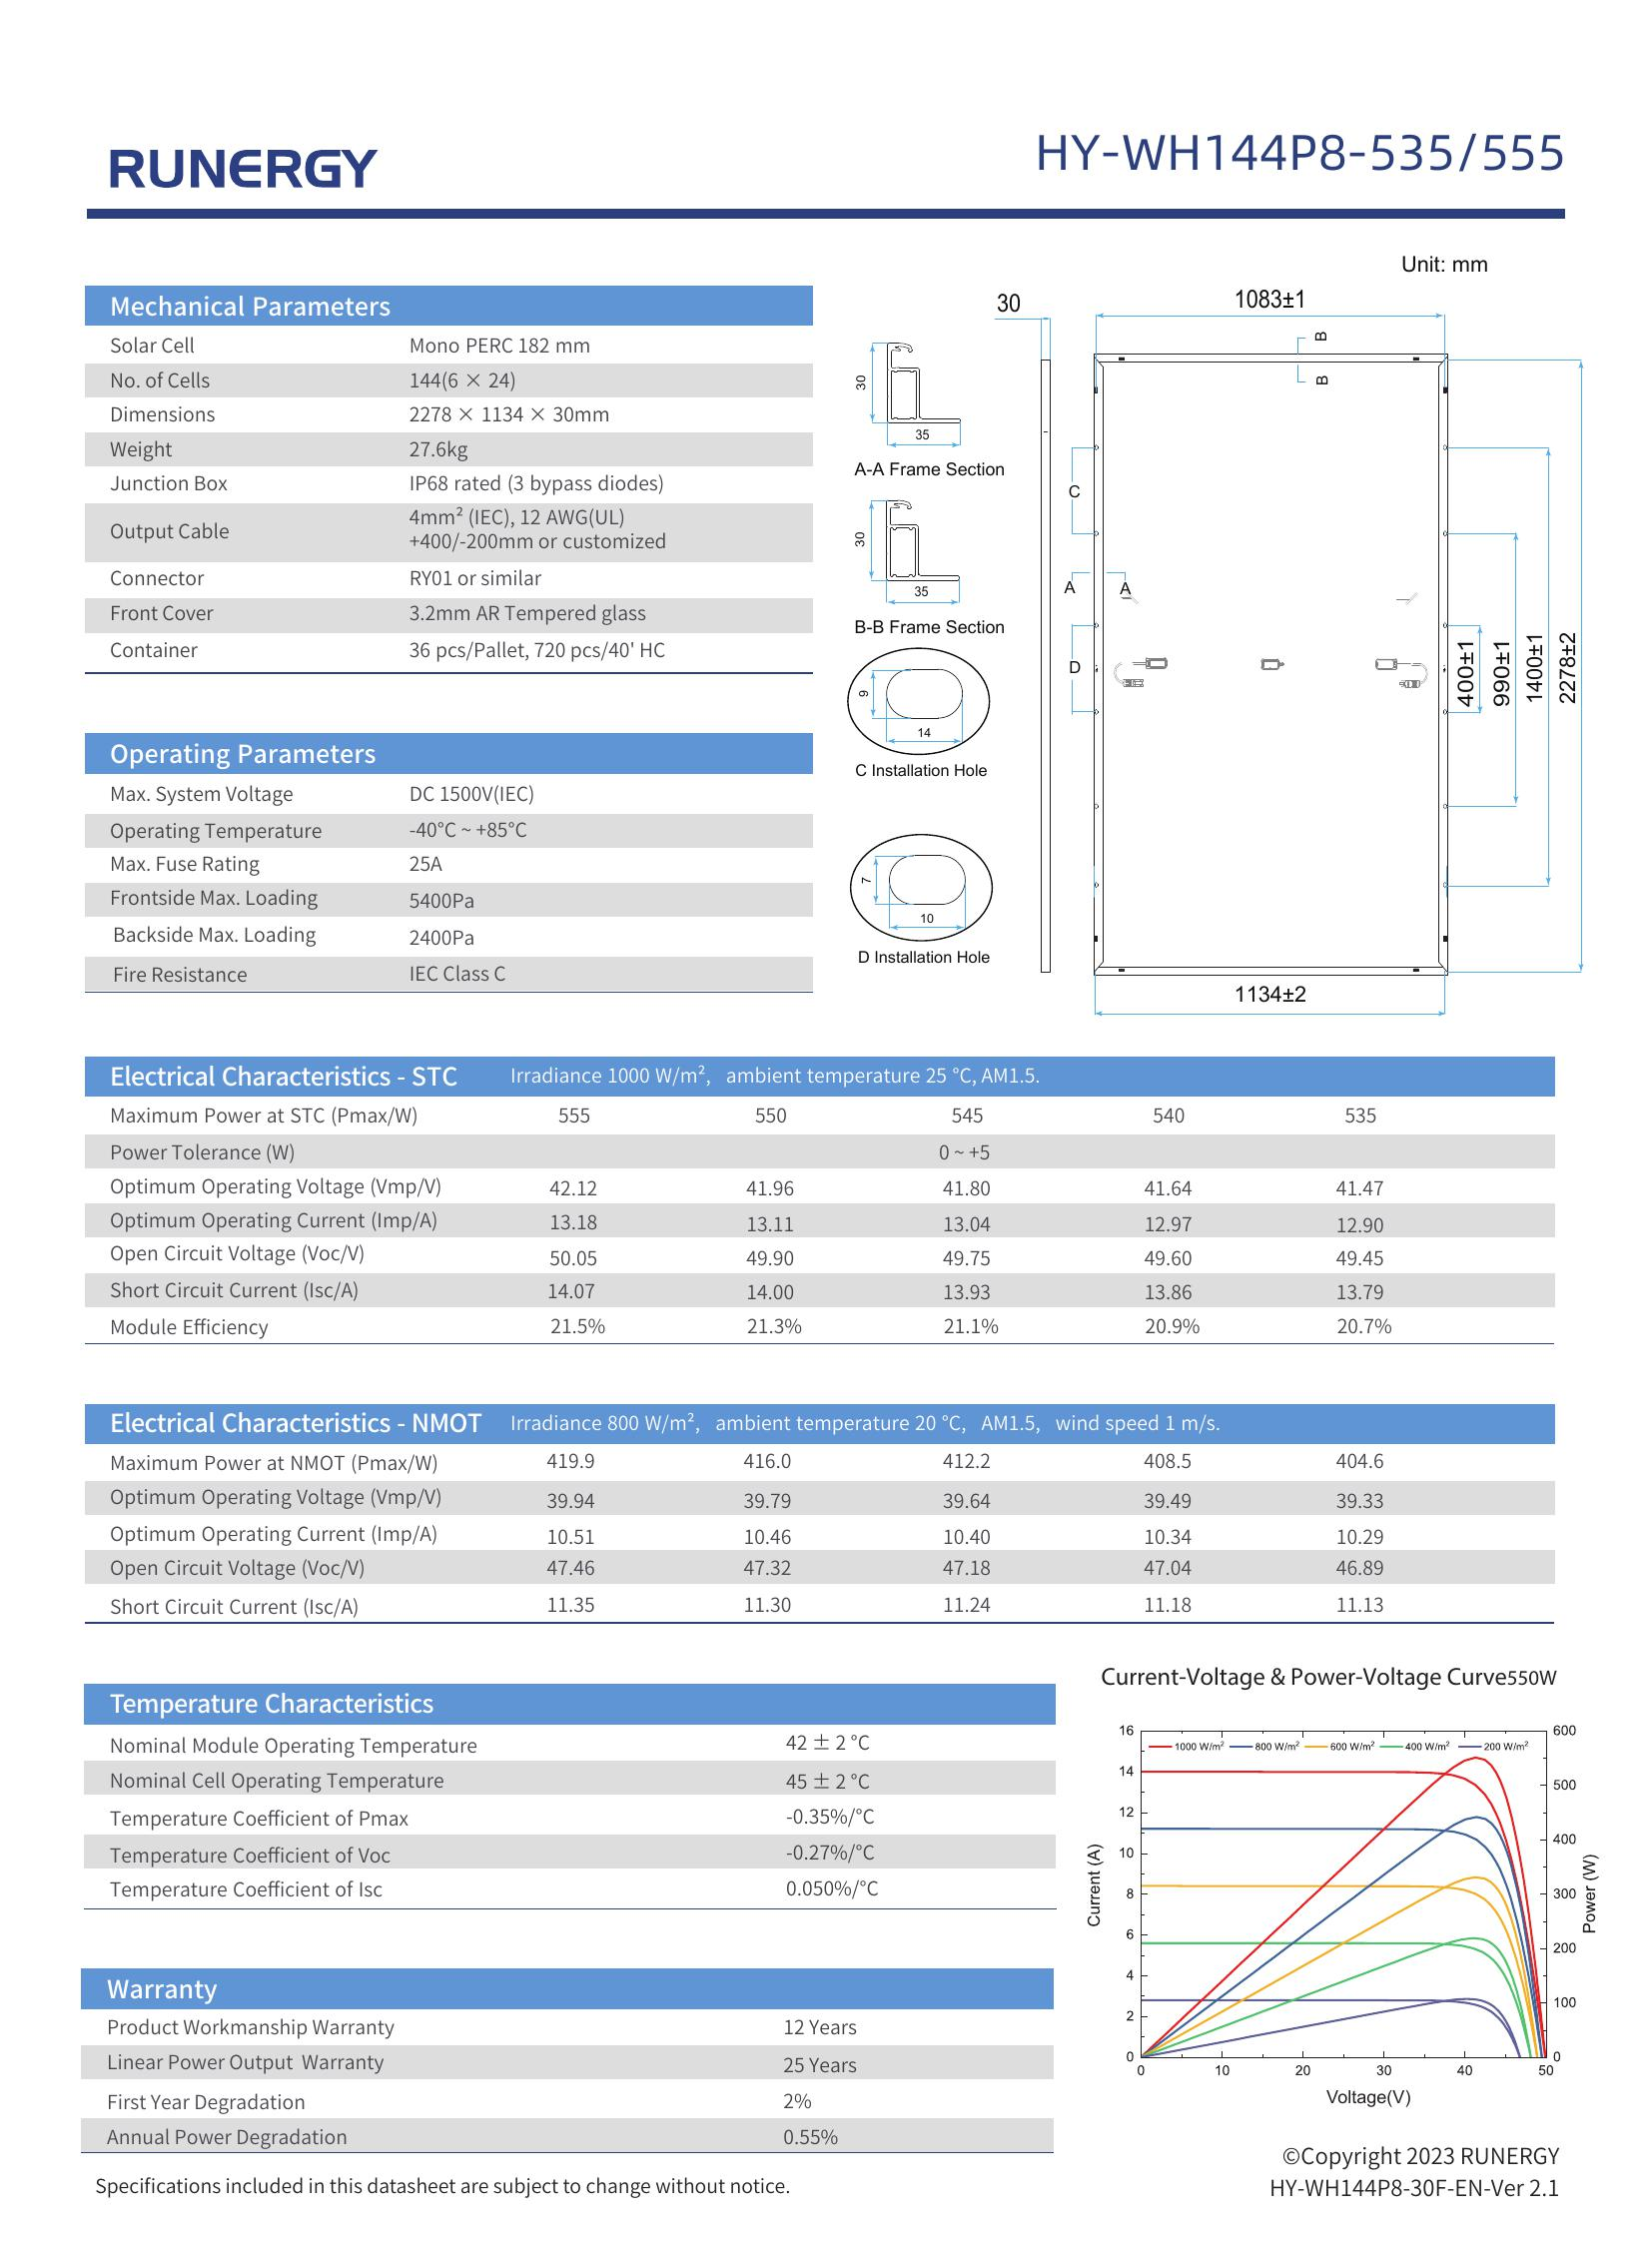table: (75, 1100, 1565, 1340), (84, 1447, 1561, 1635), (77, 331, 822, 682), (75, 1728, 1069, 1915), (75, 775, 830, 997), (71, 2012, 1062, 2162)
